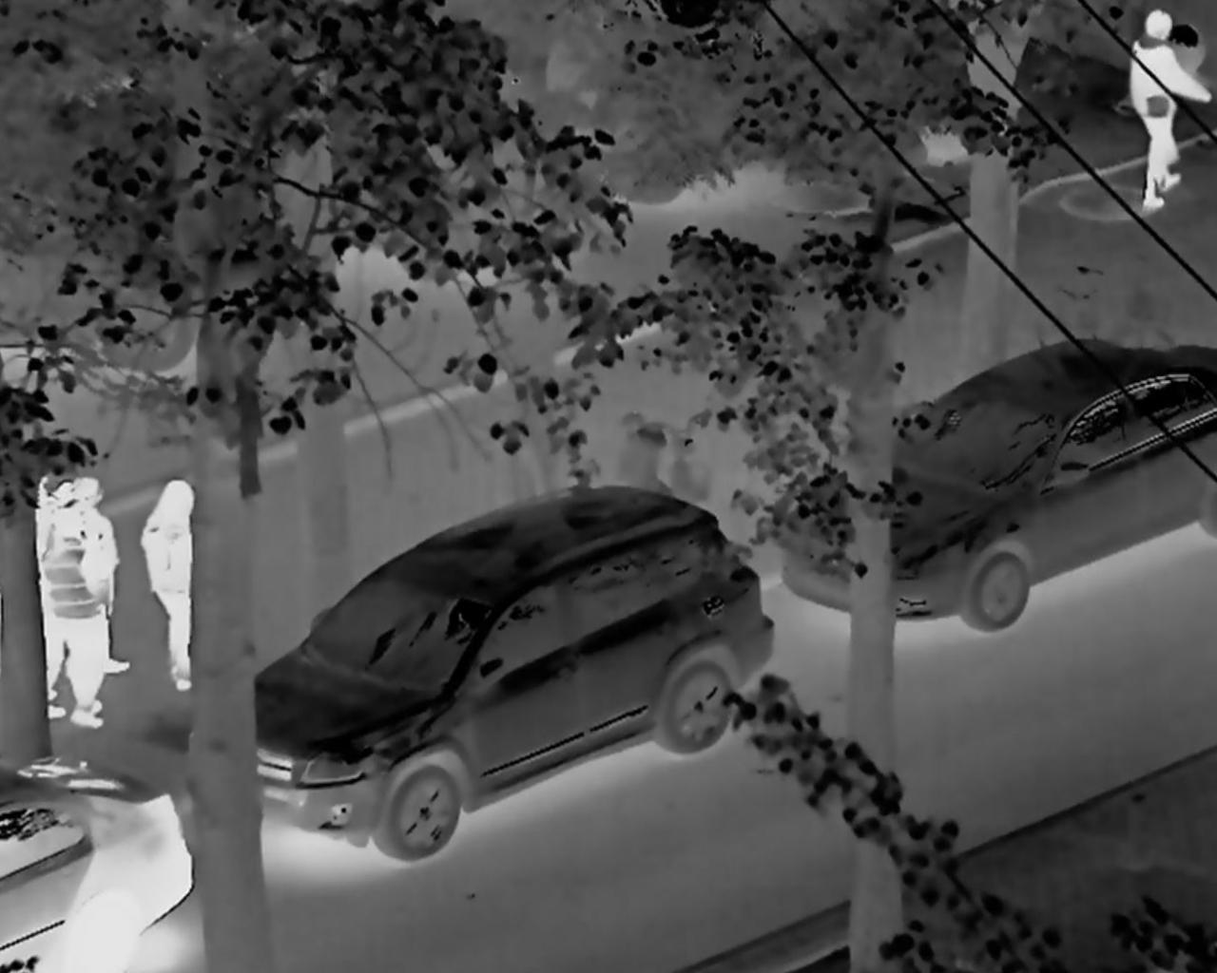person: (32, 466, 132, 738), (1112, 10, 1214, 216), (143, 480, 208, 691)
